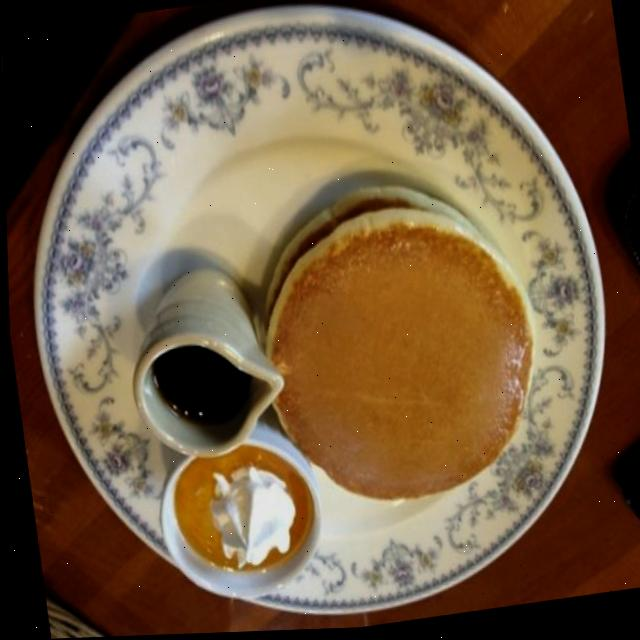米饭主食: (185, 0, 529, 301), (1, 19, 227, 323), (454, 0, 640, 305)
蔬菜料理: (266, 297, 504, 605)
